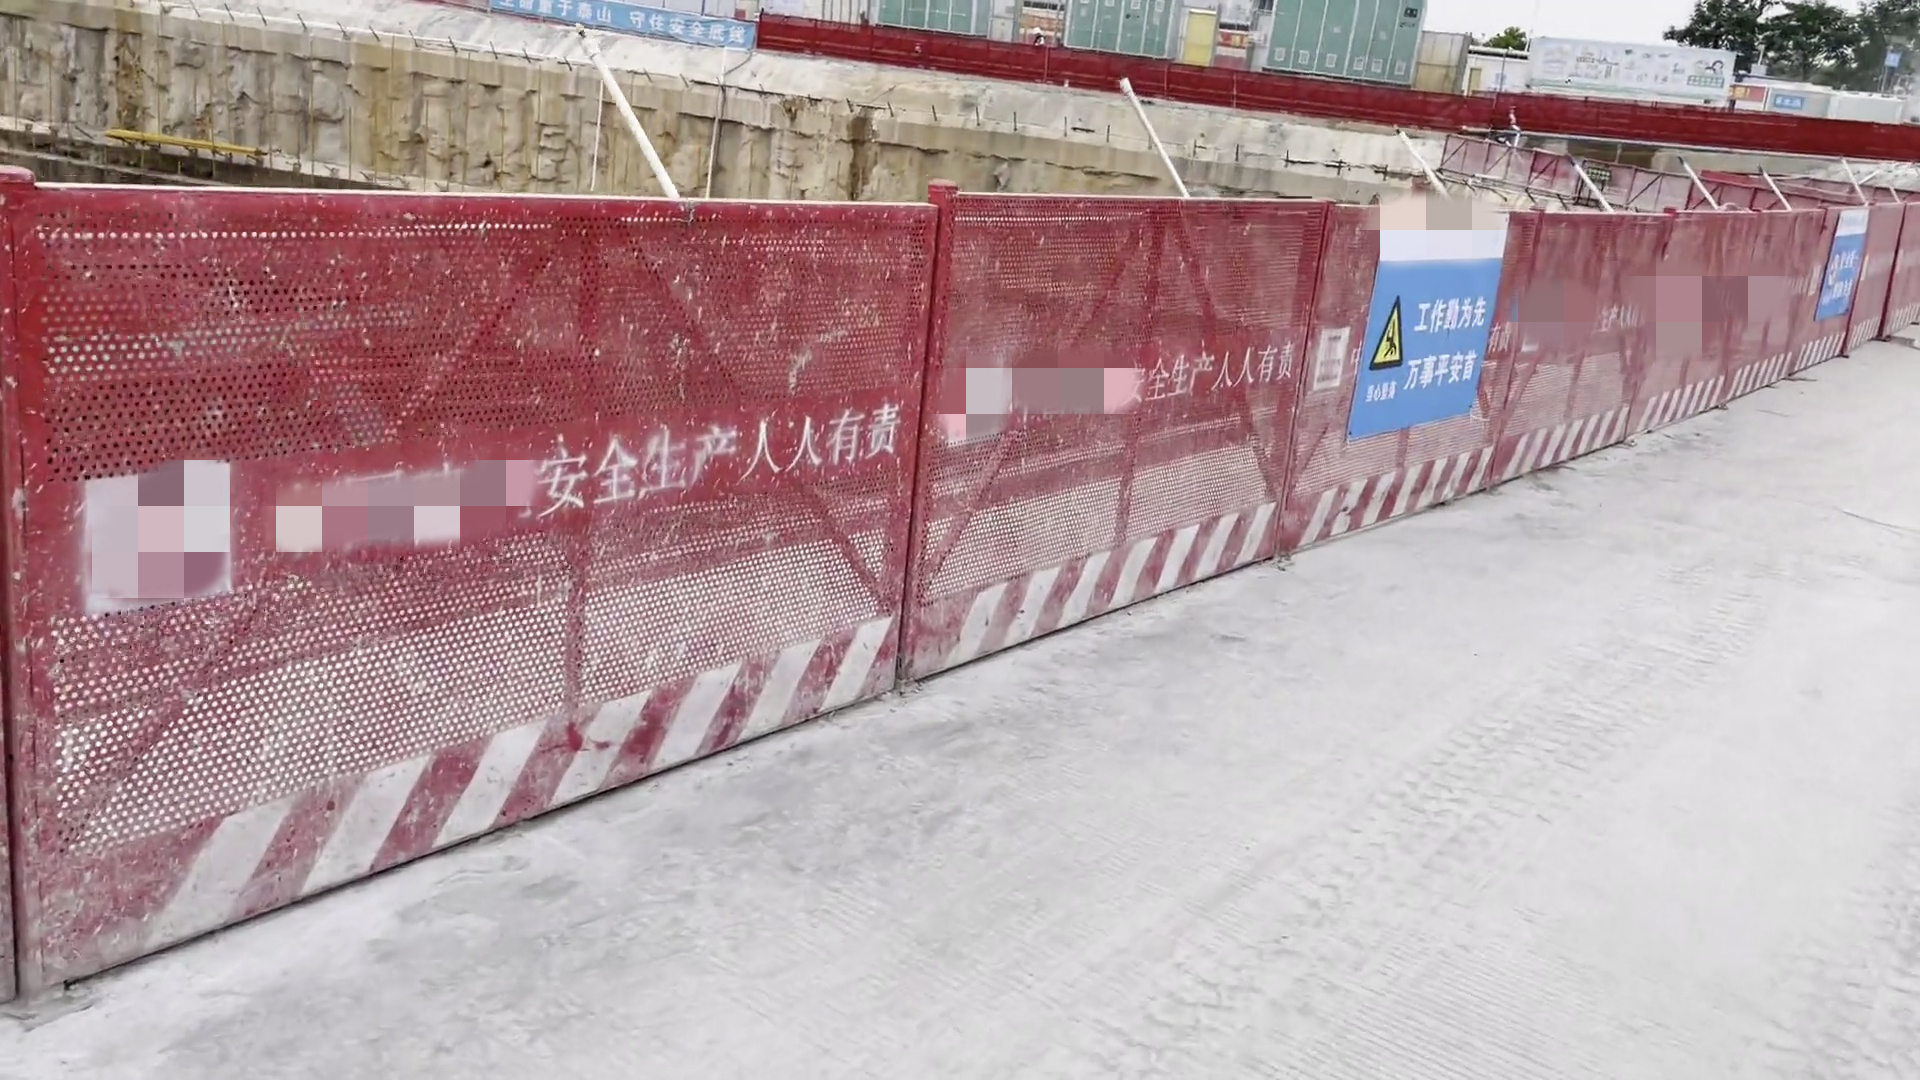fence: (7, 211, 1920, 1006), (396, 1, 1917, 169)
slogan: (539, 402, 905, 512), (473, 1, 750, 53), (1116, 339, 1295, 404)
